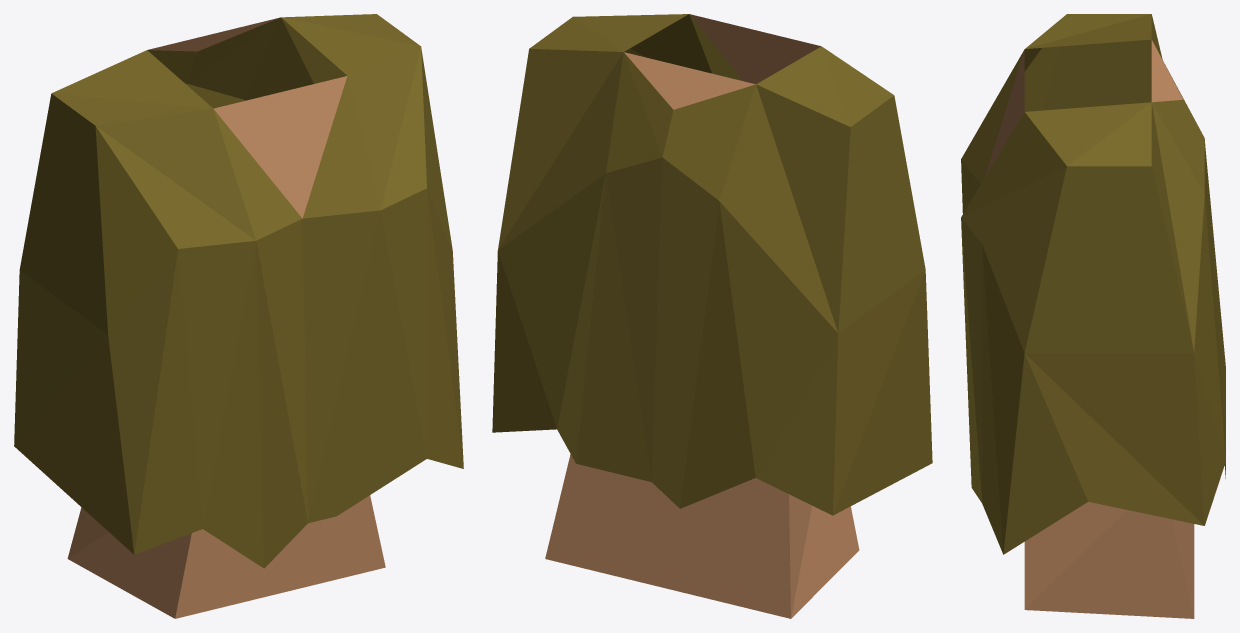
The model's file is model_310_idk.obj.
The picture shows the model from 3 angles, left to right: view 1: azimuth 30°, elevation 25°; view 2: azimuth 150°, elevation 25°; view 3: azimuth 270°, elevation 25°; orthographic projection. The views are drawn at different scales.
Parts seen in each view (by area): view 1: 310; view 2: 310; view 3: 310.
Boxes of the visible parts, <box> form: 310: <box>14,14,463,618</box>; 310: <box>492,14,932,618</box>; 310: <box>961,14,1225,618</box>.
Size of the model in its own units: 37 by 51 by 25.
